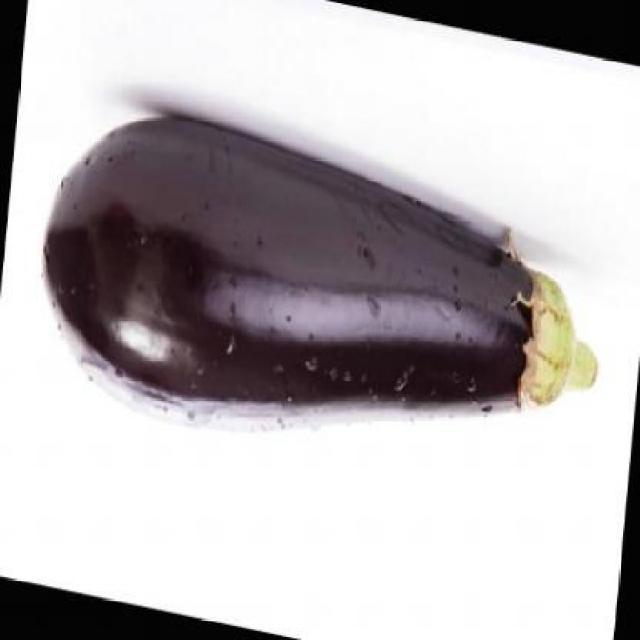eggplant: (25, 112, 602, 446)
